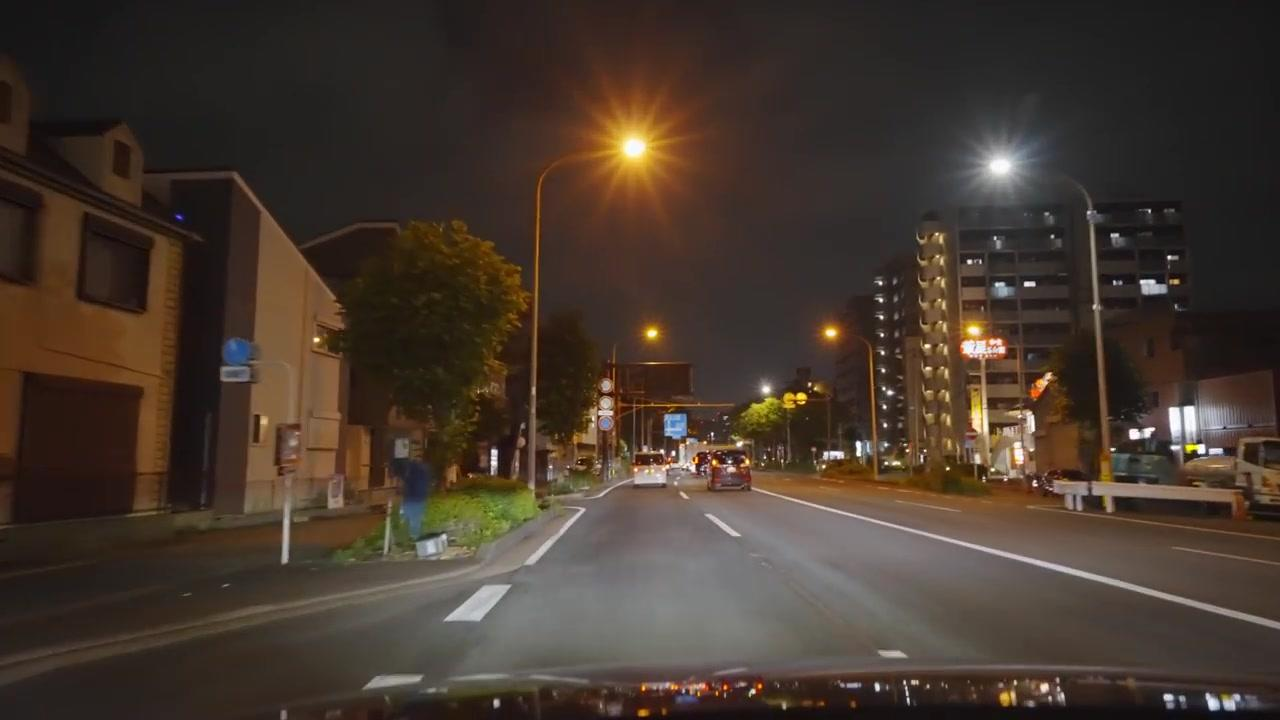car: (1232, 434, 1279, 521), (1181, 455, 1236, 488), (708, 459, 752, 493), (632, 450, 668, 488), (666, 466, 688, 481)
person: (389, 447, 434, 544)
truck: (1233, 435, 1280, 520)
